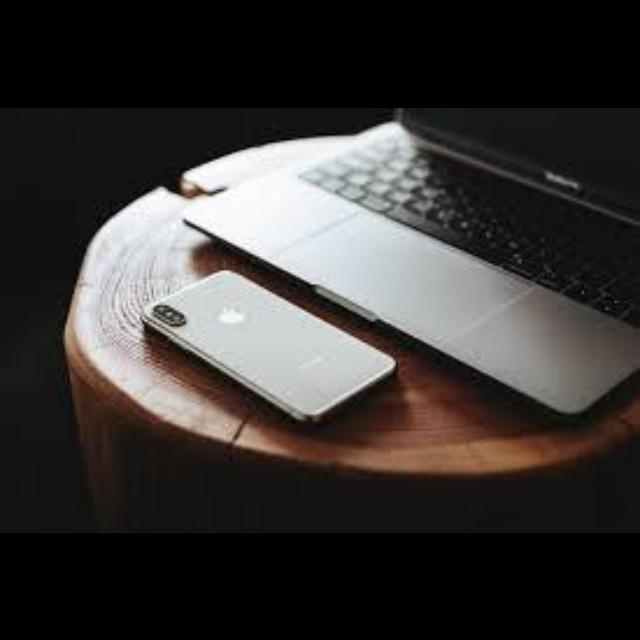PhoneUse: (139, 270, 397, 424)
